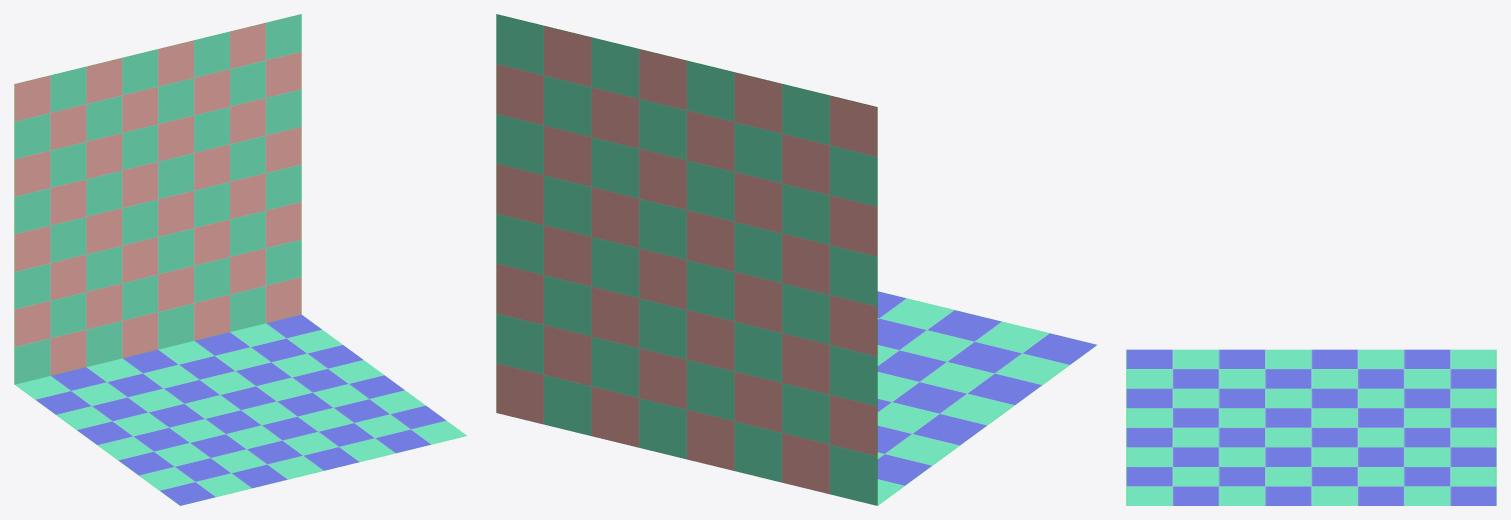
The model's file is ChekersBoard.FBX.
The picture shows the model from 3 angles, left to right: view 1: azimuth 30°, elevation 25°; view 2: azimuth 150°, elevation 25°; view 3: azimuth 270°, elevation 25°; orthographic projection. The views are drawn at different scales.
Parts seen in each view (by area): view 1: GreenRed, GreenCian; view 2: GreenRed, GreenCian; view 3: GreenCian.
Part boxes in pixels (x1=…): GreenRed: x1=14, y1=14, x2=301, y2=384; GreenCian: x1=15, y1=314, x2=466, y2=505; GreenRed: x1=496, y1=14, x2=877, y2=505; GreenCian: x1=877, y1=291, x2=1096, y2=505; GreenCian: x1=1126, y1=349, x2=1496, y2=505.
Bounding box in the file's own units: 100 × 100 × 100.
